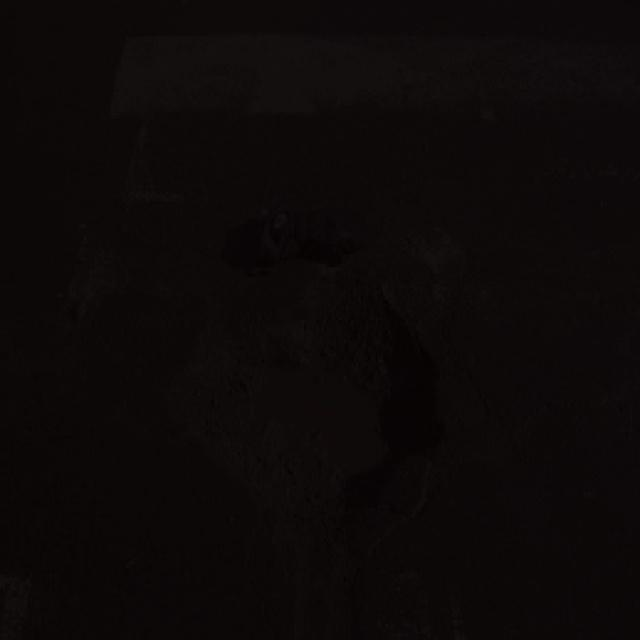Pothole: (190, 286, 446, 546)
